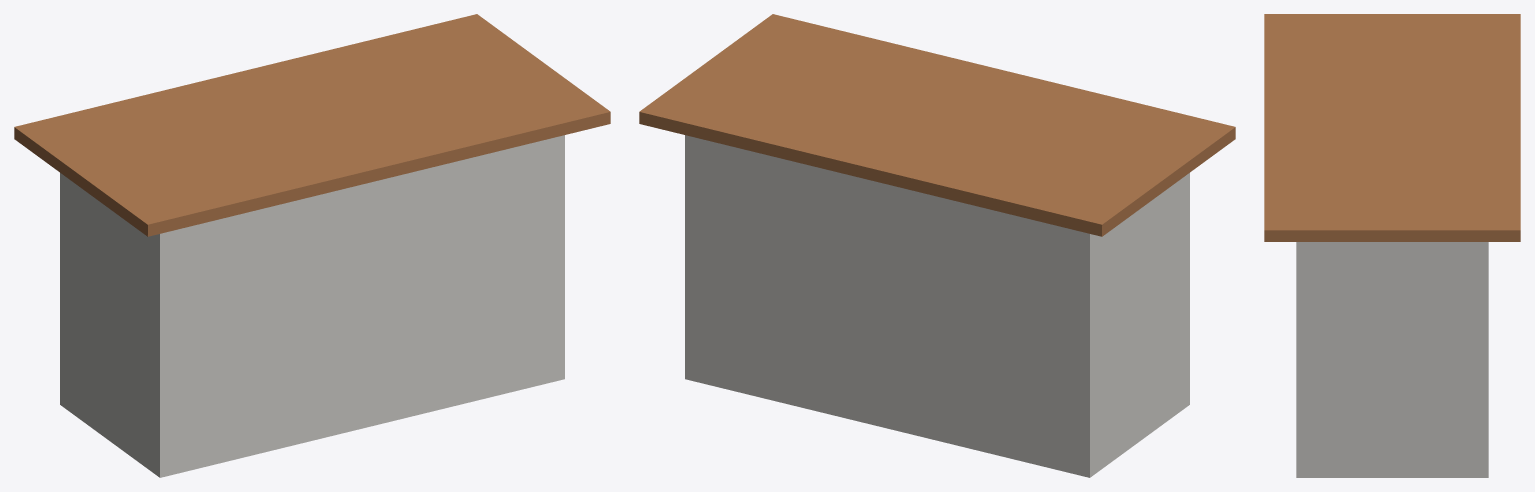
Rendered from display_table.glb.
3 views of the same model, side by side, from view 1: azimuth 30°, elevation 25°; view 2: azimuth 150°, elevation 25°; view 3: azimuth 270°, elevation 25° (orthographic). The views are drawn at different scales.
Parts seen in each view (by area): view 1: display_table; view 2: display_table; view 3: display_table.
Part boxes in pixels (x1,y1,x2,y2): display_table: [14, 14, 610, 477]; display_table: [639, 14, 1235, 477]; display_table: [1264, 14, 1520, 477].
Size of the model in its own units: 1.6 by 0.8999 by 0.7999.
